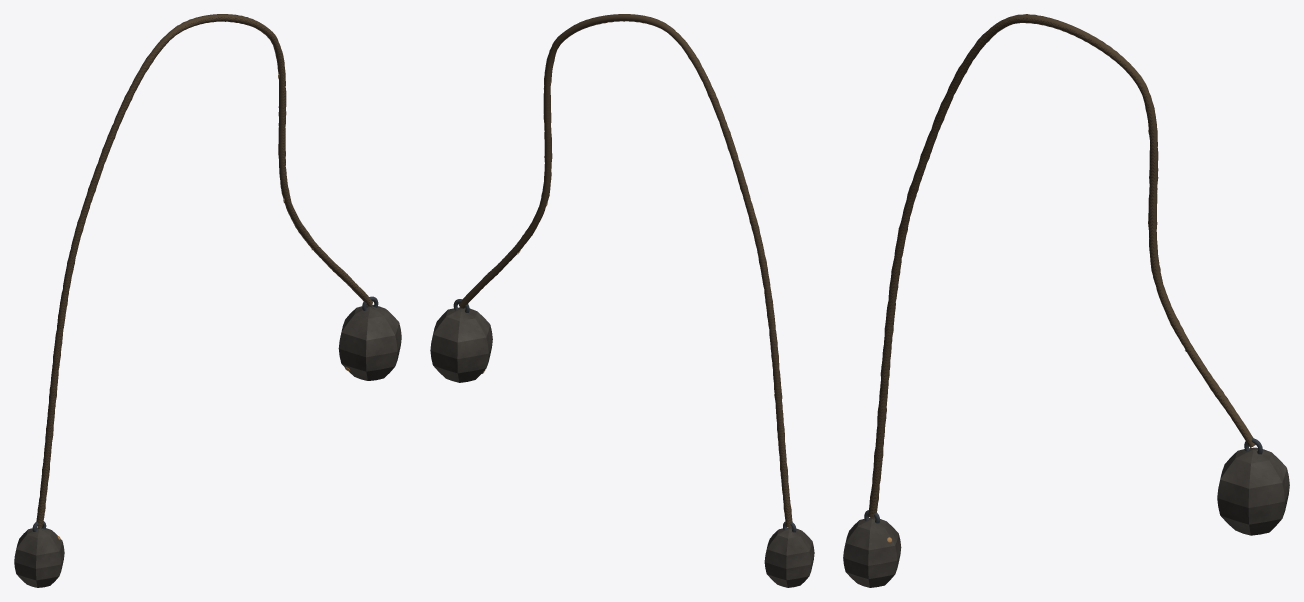
Rendered from meteor-hammer.lod1.glb.
3 views of the same model, side by side, from view 1: azimuth 30°, elevation 25°; view 2: azimuth 150°, elevation 25°; view 3: azimuth 330°, elevation 25° (orthographic). The views are drawn at different scales.
Parts seen in each view (by area): view 1: cloth / canvas webbing, iron / hammer-scaled wrought iron; view 2: cloth / canvas webbing, iron / hammer-scaled wrought iron; view 3: cloth / canvas webbing, iron / hammer-scaled wrought iron.
Boxes of the visible parts, x1,y1,x2,y2 form: cloth / canvas webbing: [36, 14, 372, 527]; iron / hammer-scaled wrought iron: [14, 304, 401, 587]; cloth / canvas webbing: [459, 14, 792, 527]; iron / hammer-scaled wrought iron: [430, 307, 814, 587]; cloth / canvas webbing: [868, 14, 1255, 518]; iron / hammer-scaled wrought iron: [843, 447, 1289, 587].
Size of the model in its own units: 0.7656 by 1.02 by 0.1089.
Materials: 5 (3 with a texture image).
